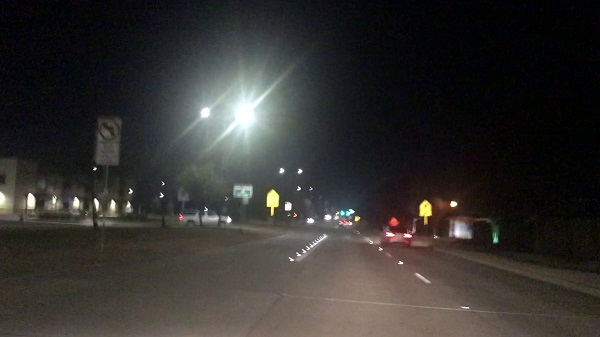car: (178, 207, 233, 226), (381, 222, 412, 247)
